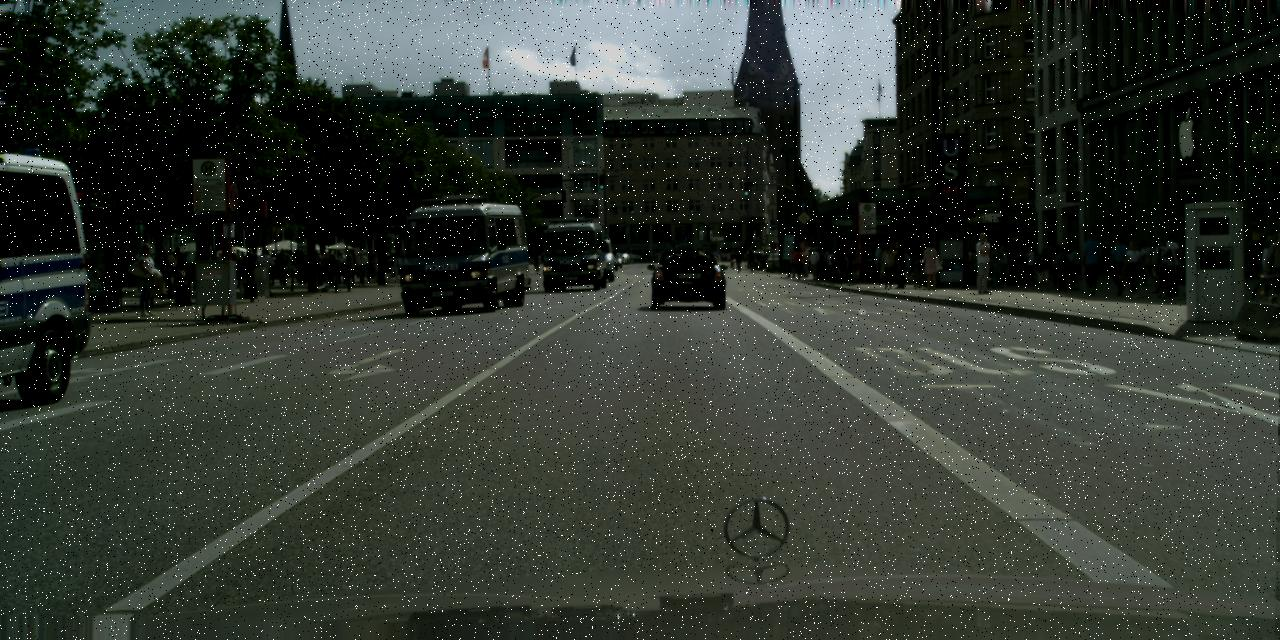ped: (132, 242, 162, 315), (1158, 232, 1184, 296), (969, 232, 994, 292), (1079, 231, 1103, 291), (1148, 238, 1172, 296), (1108, 237, 1131, 294), (1120, 240, 1142, 296), (153, 243, 175, 298), (1138, 238, 1158, 294), (254, 247, 274, 295), (921, 240, 940, 290), (889, 242, 907, 288), (880, 243, 898, 288), (1065, 244, 1083, 288), (1034, 247, 1052, 289), (987, 243, 1004, 287), (1046, 246, 1062, 290), (1058, 244, 1074, 287), (1054, 247, 1070, 289), (870, 242, 886, 282), (120, 246, 136, 286), (169, 247, 185, 286), (1022, 247, 1038, 284), (1262, 231, 1276, 273), (999, 246, 1014, 285), (322, 248, 337, 284), (994, 245, 1008, 283), (318, 247, 332, 284), (294, 248, 308, 284), (308, 249, 322, 284), (207, 249, 221, 284), (1016, 250, 1030, 284), (836, 248, 850, 281), (274, 252, 288, 284), (833, 248, 846, 282), (214, 251, 227, 284), (898, 250, 911, 282), (821, 247, 834, 278), (335, 250, 347, 282), (968, 244, 977, 286), (825, 249, 837, 280), (243, 250, 255, 281), (354, 252, 366, 282), (792, 248, 804, 276), (809, 246, 820, 276), (786, 247, 796, 279), (799, 247, 810, 276), (348, 249, 358, 278), (224, 248, 235, 274), (388, 253, 398, 279), (280, 248, 290, 268), (386, 252, 393, 280), (233, 248, 241, 270), (238, 250, 246, 272), (734, 250, 742, 269), (532, 252, 540, 270), (748, 249, 754, 267), (728, 251, 734, 266), (272, 250, 278, 262), (374, 258, 377, 282), (720, 251, 724, 260), (726, 251, 730, 260), (274, 266, 278, 274), (731, 249, 734, 258)
